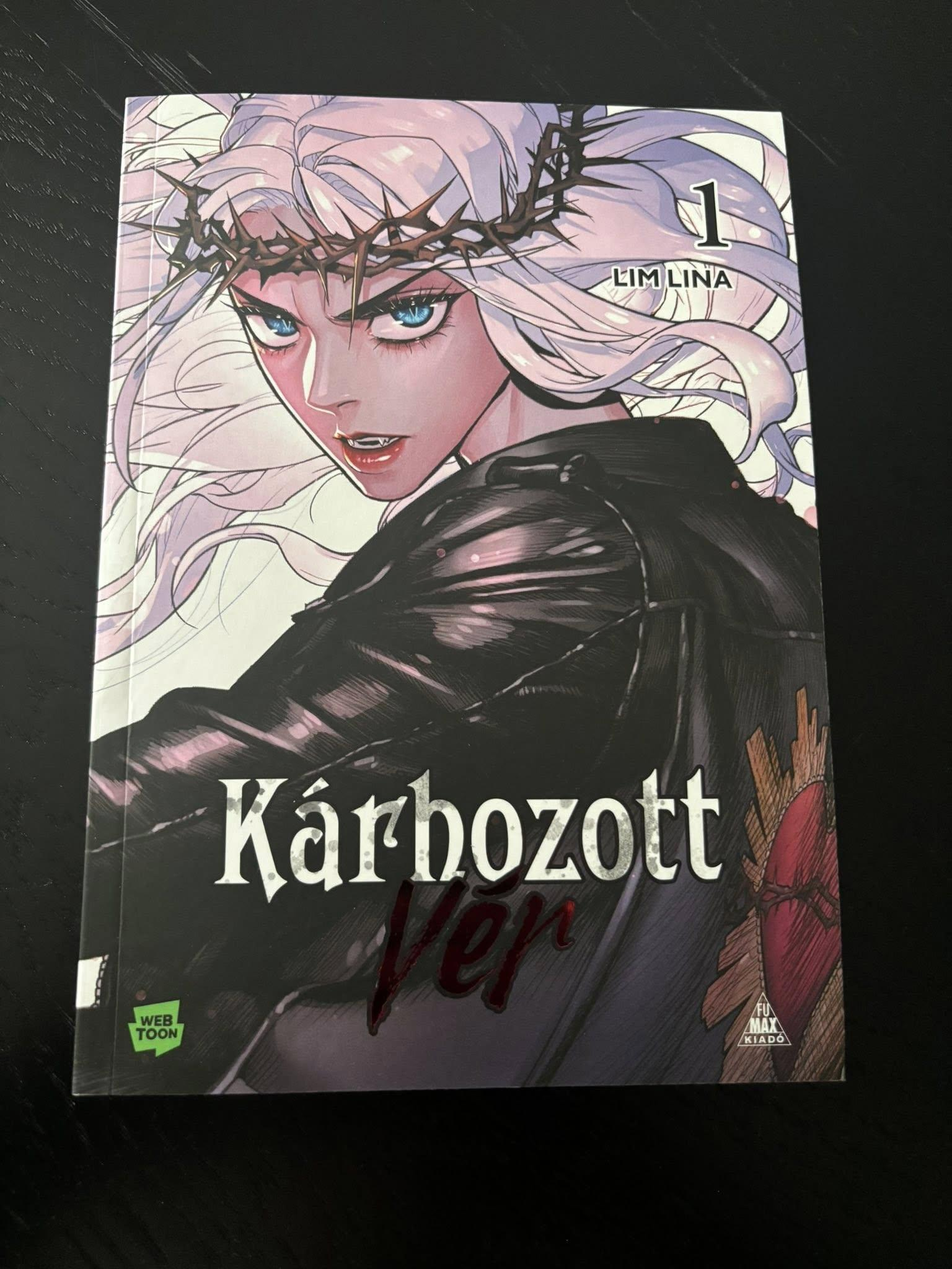comic: (74, 94, 842, 1093)
